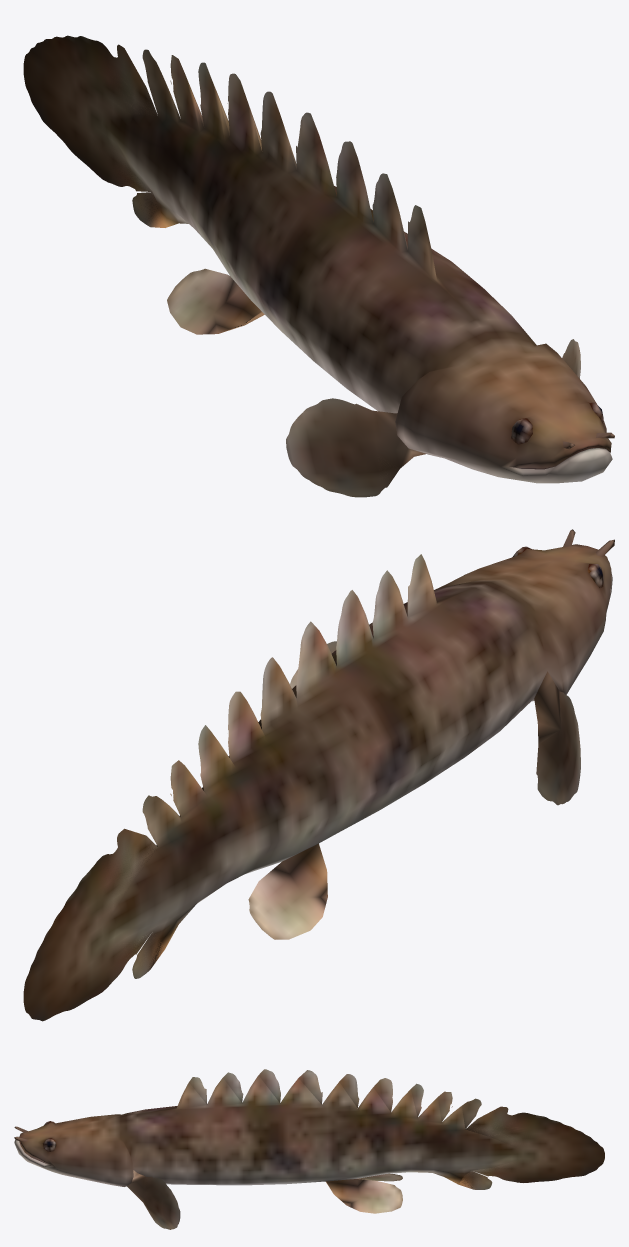
File: saddled-bichir.glb
3 views of the same model, one above another, from view 1: azimuth 30°, elevation 25°; view 2: azimuth 150°, elevation 25°; view 3: azimuth 270°, elevation 25° (orthographic). The views are drawn at different scales.
Bounding box in the file's own units: 3.6 × 3.11 × 12.04.
1 material, 1 textured.
